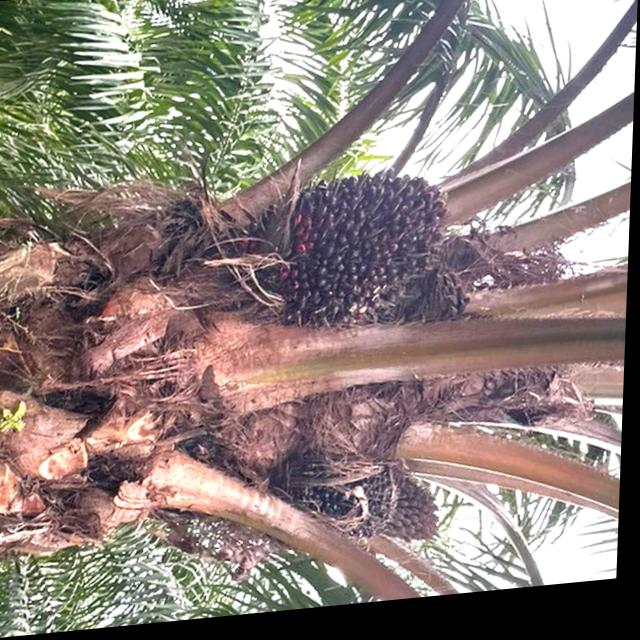ripe: (221, 150, 462, 362)
